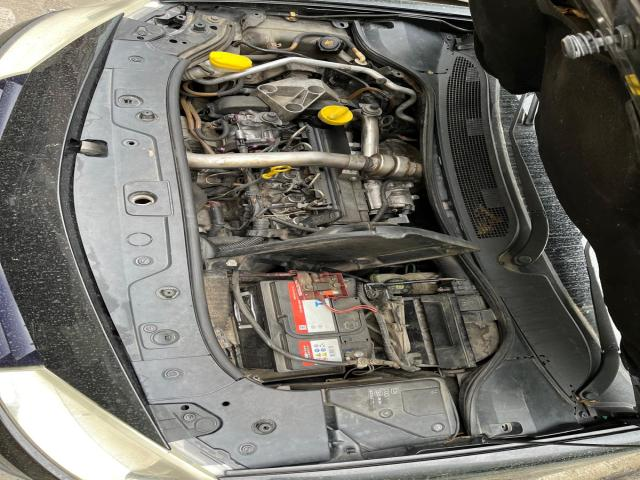accumulator: (235, 271, 397, 382)
alternator: (181, 116, 205, 153)
antifreeze_tank: (243, 16, 350, 58)
fuse_box: (325, 377, 458, 451)
high_pressure_pump: (222, 110, 280, 152)
